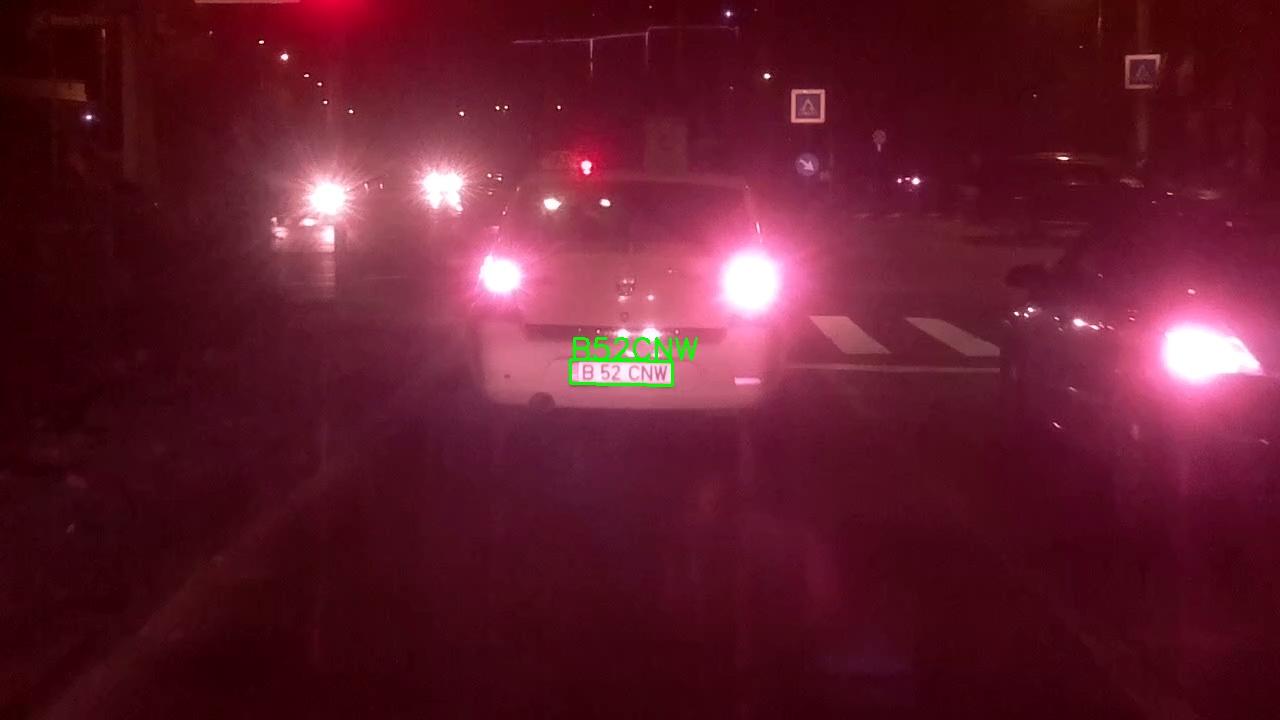license-plate: (569, 359, 674, 387)
